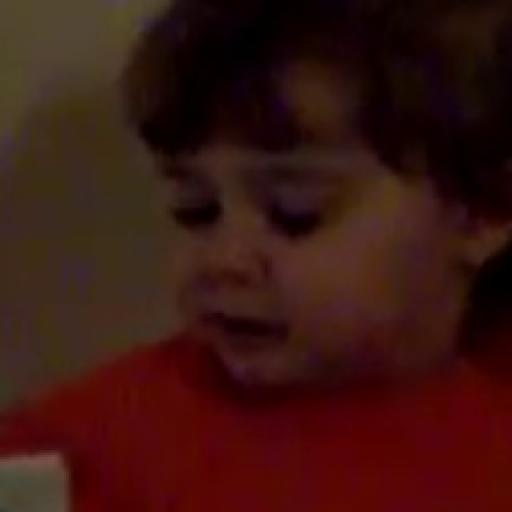Autism: (125, 0, 512, 482)
